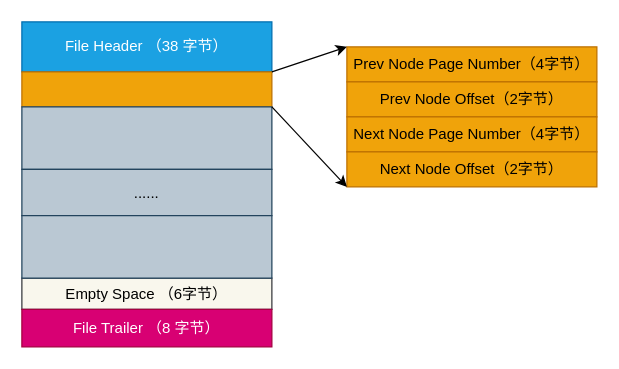
Some shapes in this 619 by 369 pixel diagram are drawn without their labels. The shapes that lost their labels are listed below. From the top down, each one's centre as x and y in pixels, then its label:
(x=146, y=89): List Node For INODE Page List （12字节）
(x=146, y=137): INODE Entry 0 （192字节）
(x=146, y=246): INODE Entry 84 （192字节）
